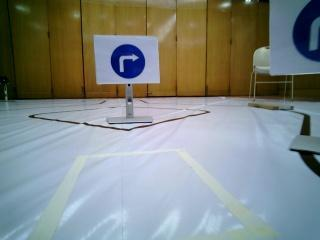right: (93, 34, 161, 84), (272, 4, 320, 73)
